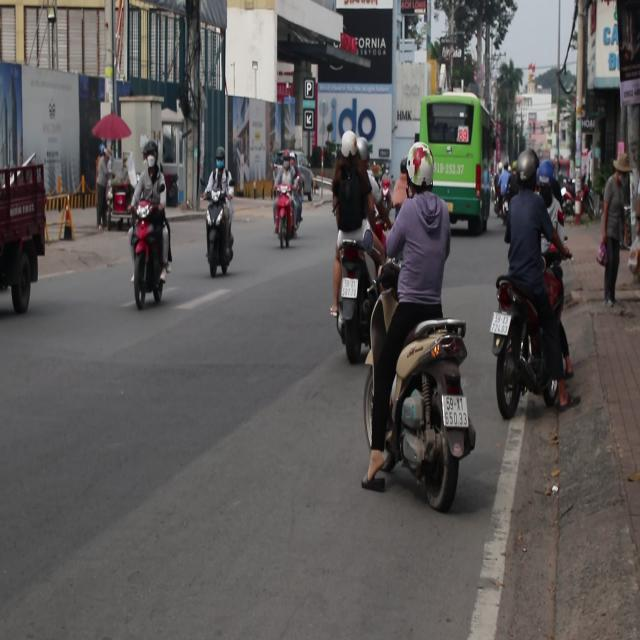bus: (421, 91, 498, 236)
car: (298, 154, 316, 202)
motorbike: (381, 306, 479, 510), (493, 274, 572, 418), (328, 228, 378, 363), (130, 206, 172, 308), (204, 154, 237, 276), (272, 185, 306, 254), (380, 170, 393, 223)
